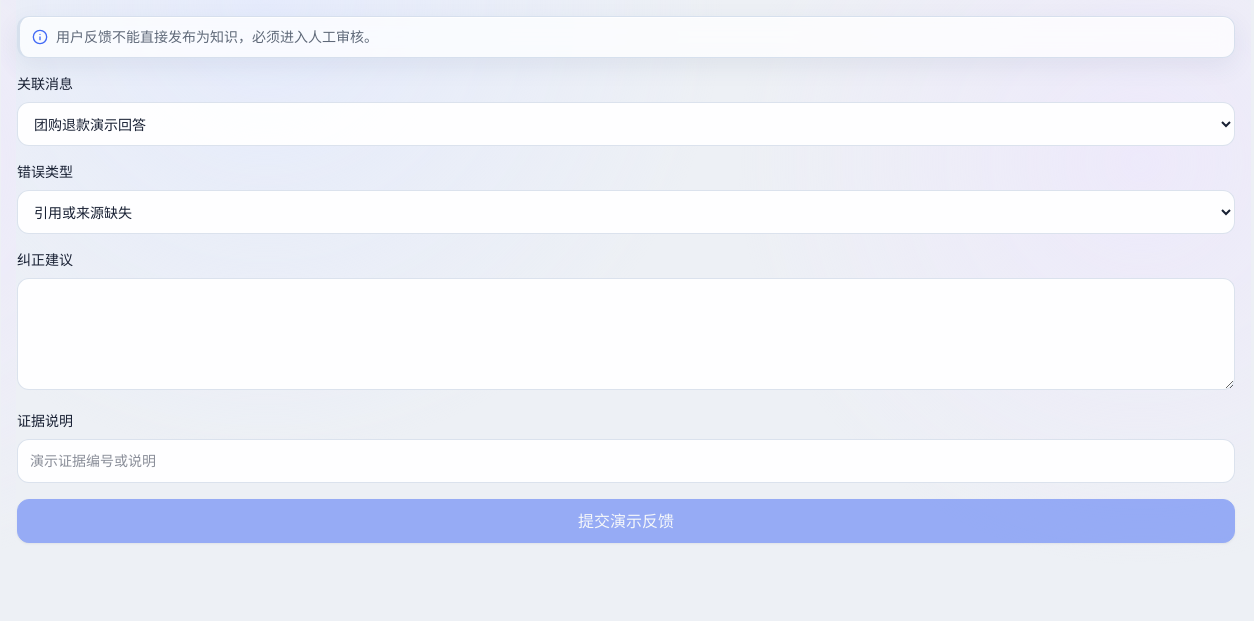
account and knowledge admin demo flows › turns feedback into a reviewable candidate instead of published knowledge
Step 1. Type "退款规则需要补充预约限制。" into the text box labelled "纠正建议" → (626,334), box [17,278,1235,390]
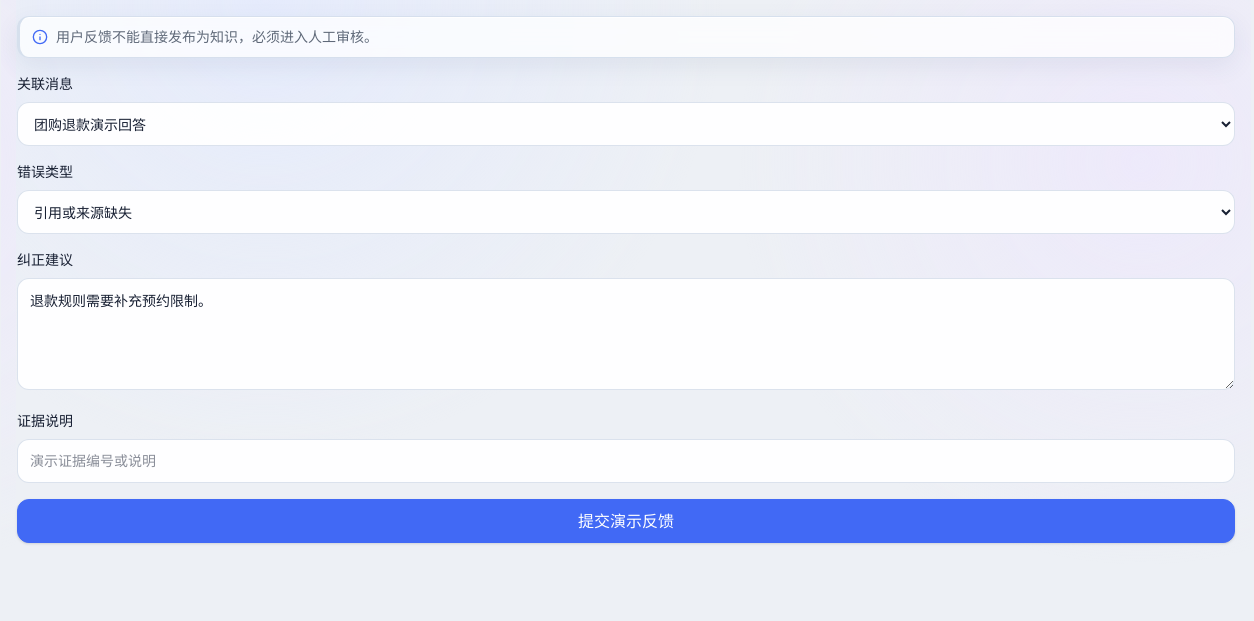
Step 2. Click the button "提交演示反馈" → (626,521), box [17,499,1235,543]
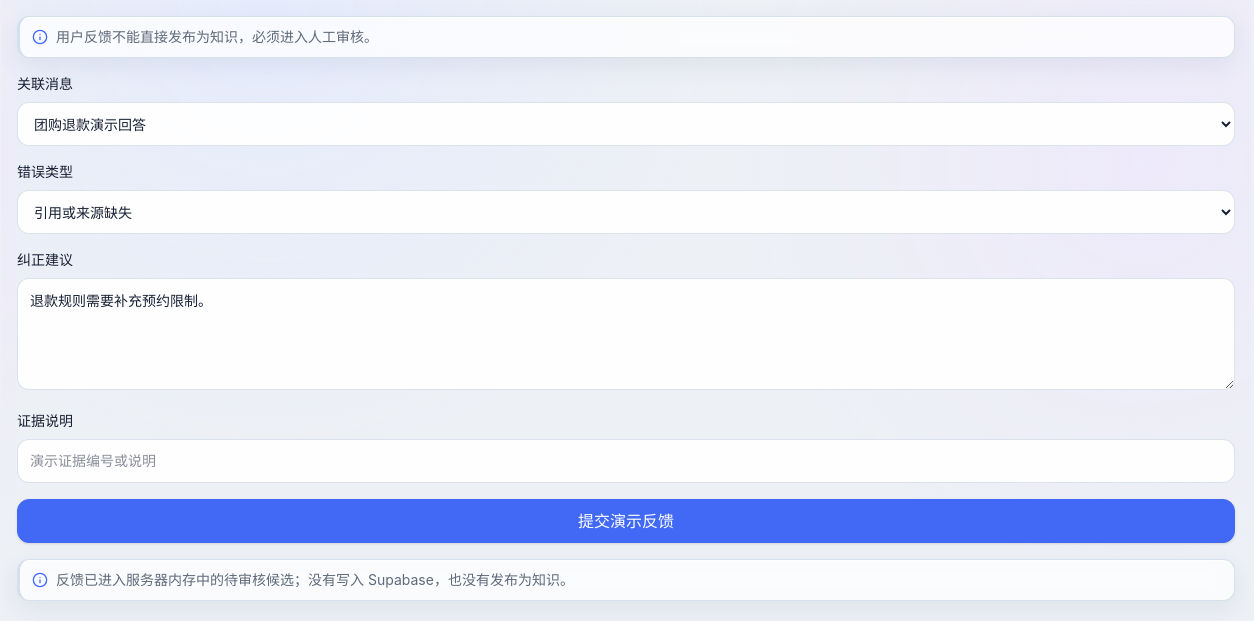
Now the text "反馈已进入服务器内存中的待审核候选；没有写入 Supabase，也没有发布为知识。" is shown, box [56,570,574,590]
